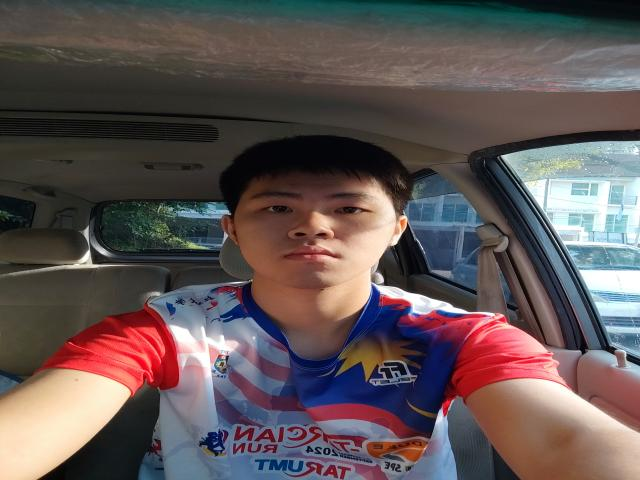eye_open: (330, 201, 374, 218), (253, 202, 296, 217)
face: (237, 174, 400, 290)
